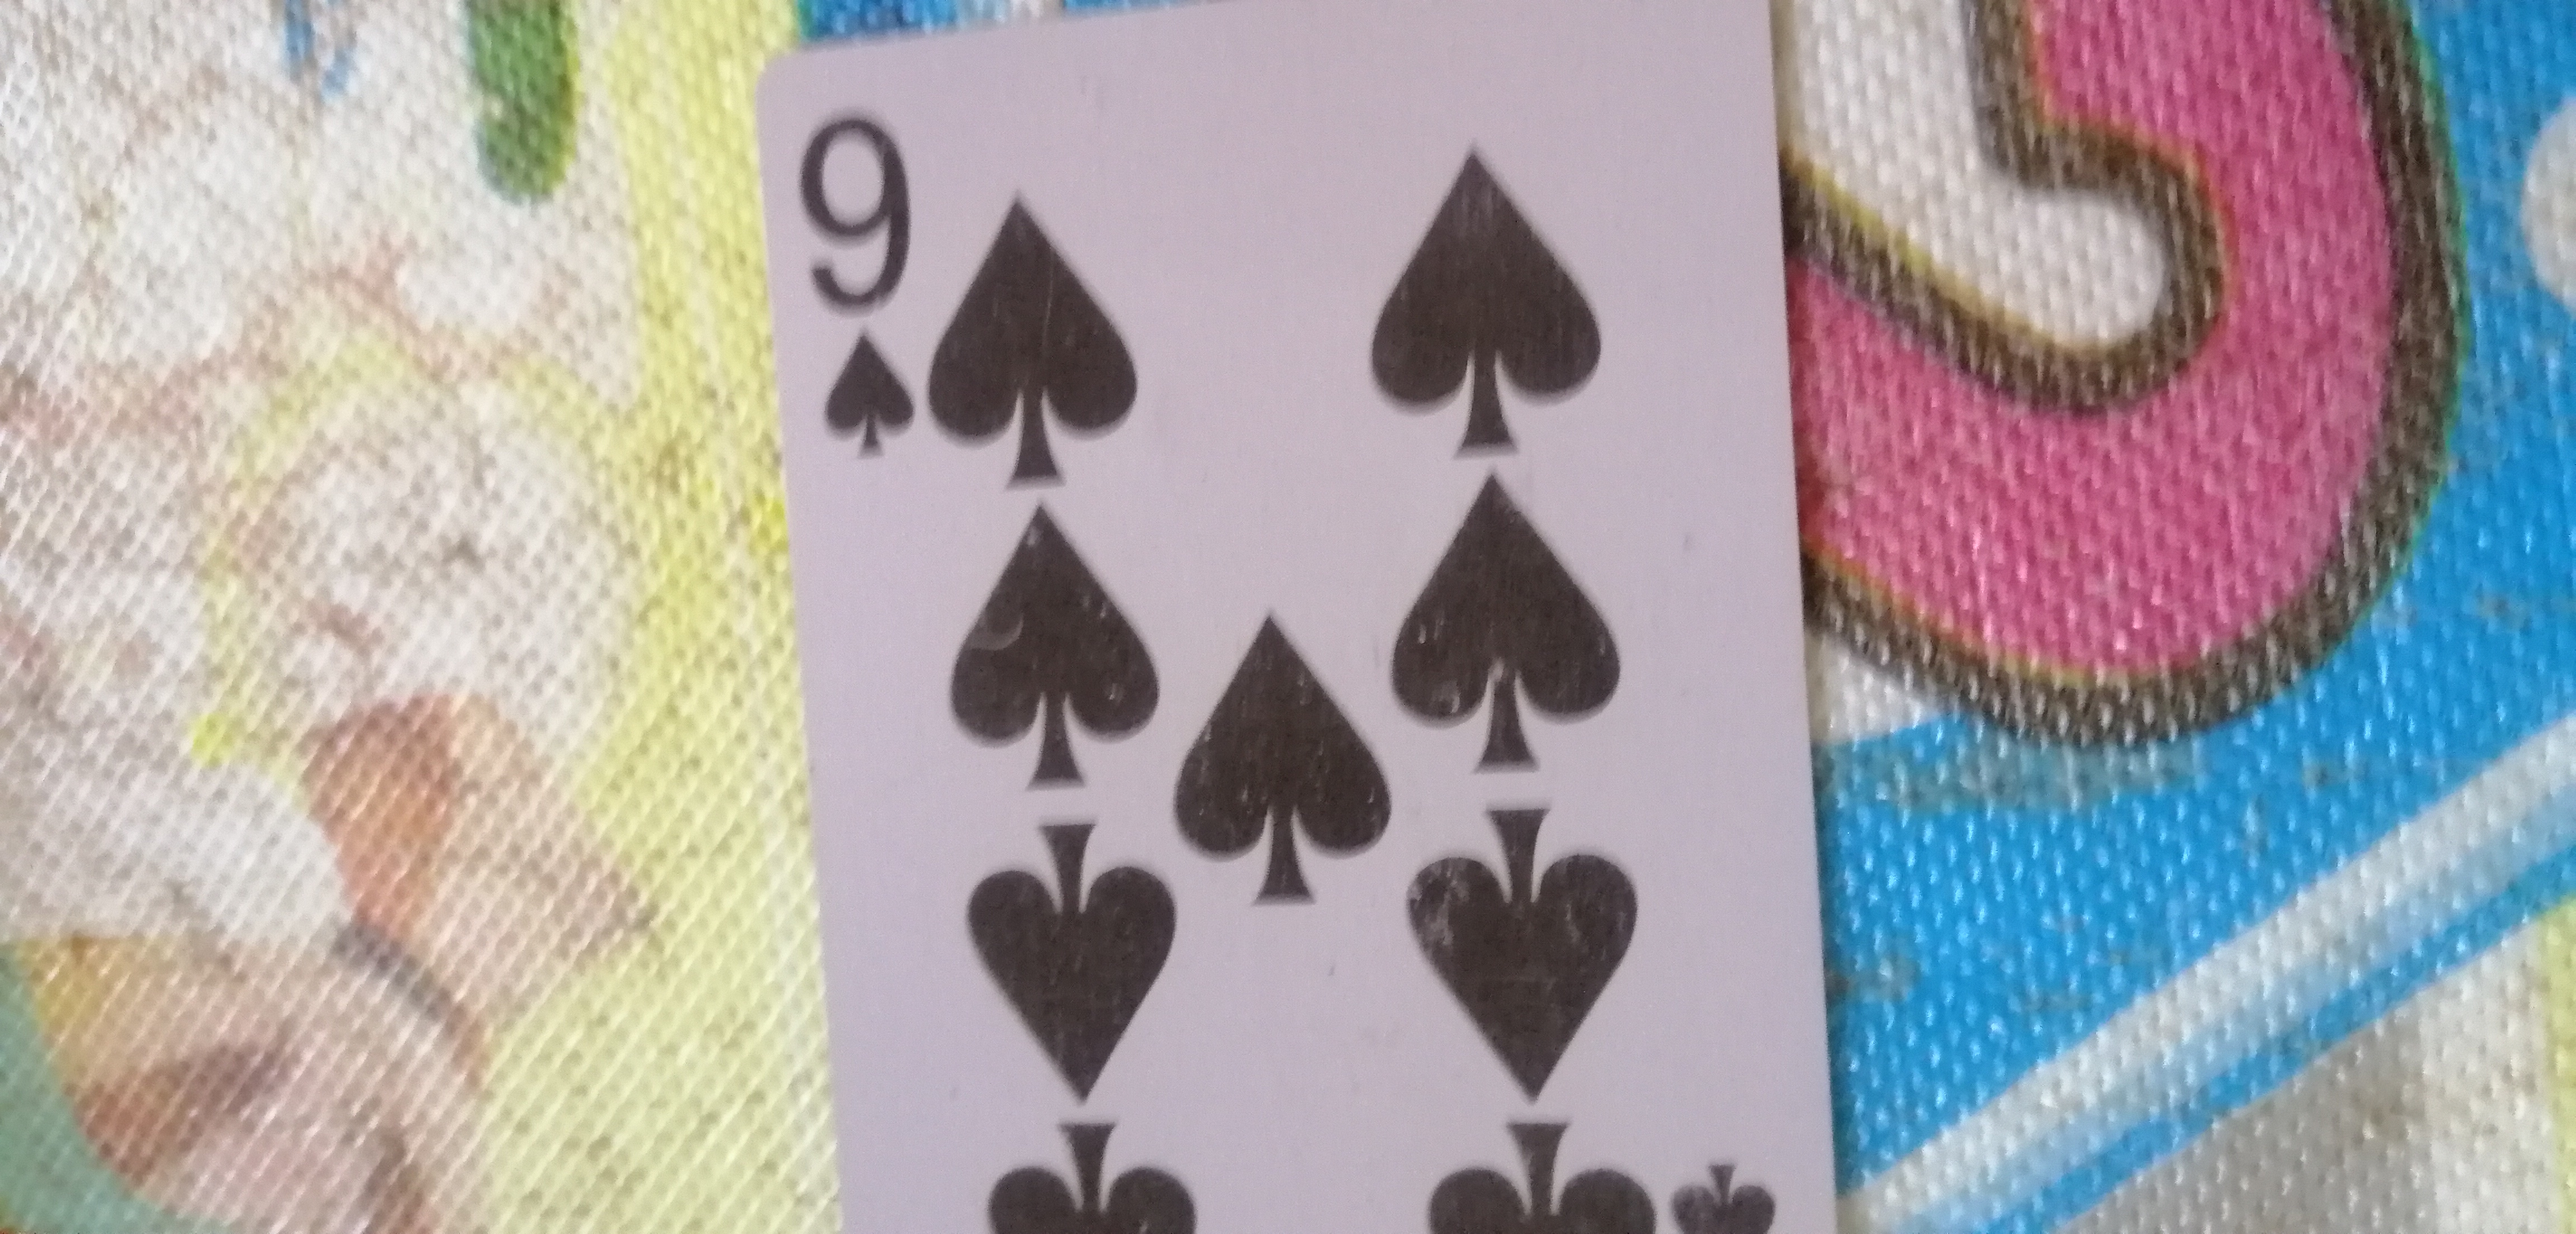nine: (710, 15, 1819, 1234)
